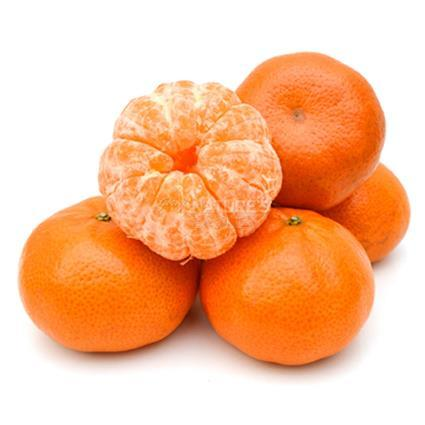orange: (17, 195, 202, 356), (200, 207, 376, 365), (223, 52, 389, 217), (261, 157, 412, 264)
